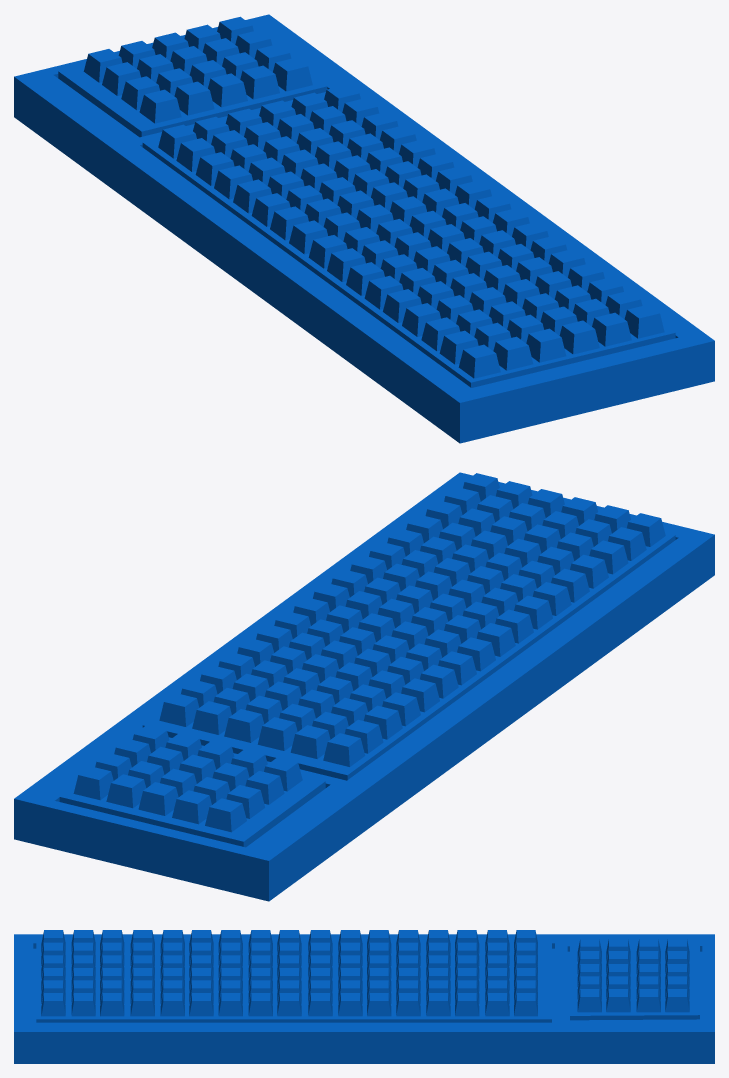
The model's file is keyboard_v02.fbx.
The picture shows the model from 3 angles, top to bottom: view 1: azimuth 30°, elevation 25°; view 2: azimuth 150°, elevation 25°; view 3: azimuth 270°, elevation 25°; orthographic projection. The views are drawn at different scales.
Parts seen in each view (by area): view 1: pCube67, pCube66; view 2: pCube67, pCube66; view 3: pCube66, pCube67.
Boxes of the visible parts, <box> form: pCube67: <box>83,16,664,378</box>; pCube66: <box>14,14,714,443</box>; pCube67: <box>73,473,665,832</box>; pCube66: <box>14,472,714,901</box>; pCube66: <box>14,934,714,1063</box>; pCube67: <box>41,930,689,1016</box>.
Bounding box in the file's own units: 24.5 × 5.75 × 74.19.
